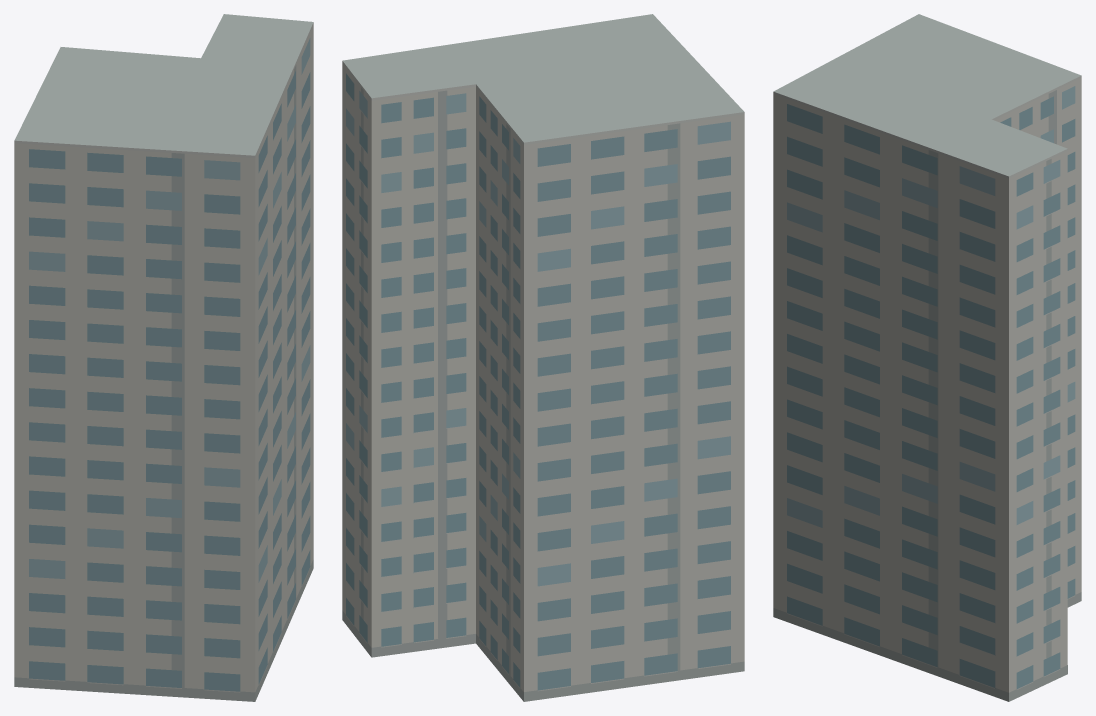
The model's file is residential-164b9f31-73ff-464f-be56-1e5d1c5fab14.glb.
The picture shows the model from 3 angles, left to right: view 1: azimuth 30°, elevation 25°; view 2: azimuth 150°, elevation 25°; view 3: azimuth 270°, elevation 25°; orthographic projection. The views are drawn at different scales.
Visible parts, largest first — view 1: residential-164b9f31-73ff-464f-be56-1e5d1c5fab14.tmp; view 2: residential-164b9f31-73ff-464f-be56-1e5d1c5fab14.tmp; view 3: residential-164b9f31-73ff-464f-be56-1e5d1c5fab14.tmp.
Part boxes in pixels (x1,y1,x2,y2): residential-164b9f31-73ff-464f-be56-1e5d1c5fab14.tmp: (14,14,313,701); residential-164b9f31-73ff-464f-be56-1e5d1c5fab14.tmp: (342,14,744,701); residential-164b9f31-73ff-464f-be56-1e5d1c5fab14.tmp: (773,14,1081,701).
Bounding box in the file's own units: 37.15 × 56 × 29.79.
